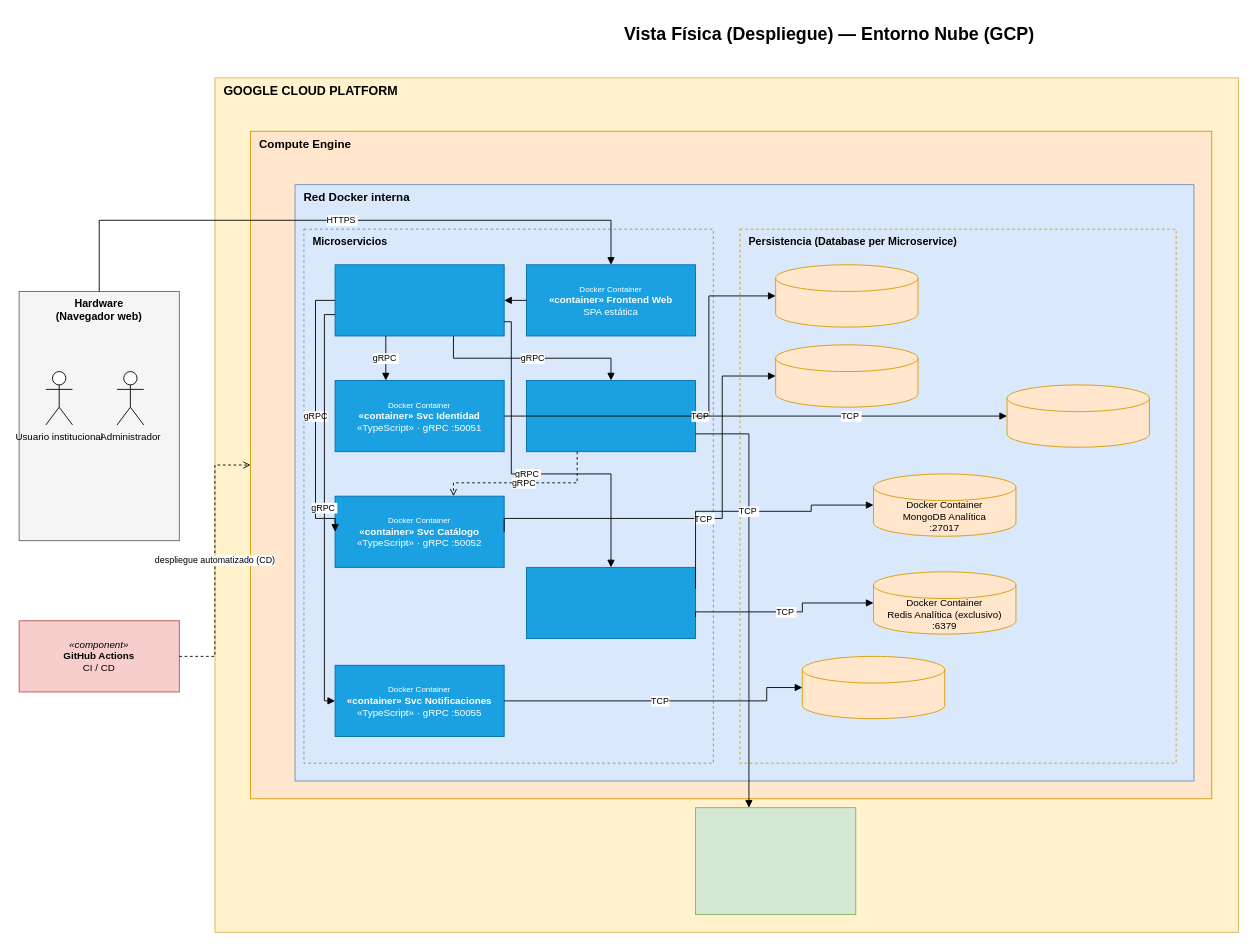
Image size: 1254x948. Some labels were removed from this diagram. Each missing label, with the centre of its shape:
Docker Container MongoDB Reproducción :27017: point 1077,415
Docker Container PostgreSQL Catálogo :5432: point 846,375
Docker Container PostgreSQL Identidad :5432: point 846,295
Docker Container PostgreSQL Notificaciones :5432: point 873,687
Docker Container «container» API Gateway «TypeScript» · expone :443: point 419,300
Docker Container «container» Svc Analítica «Python» · gRPC :50054: point 611,602
Docker Container «container» Svc Reproducción «Go» · gRPC :50053: point 611,416
«resource» Google Cloud Storage bucket de videos (grabaciones): point 775,860
